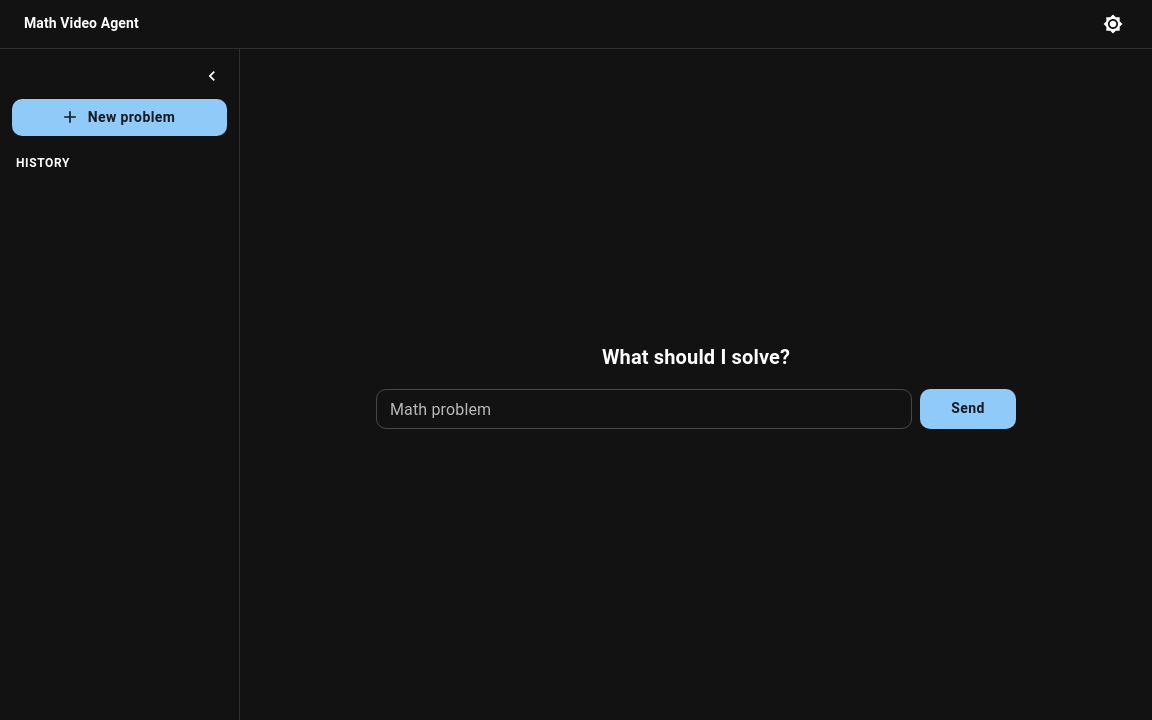
Test: AppShell › deleting the active entry returns to the empty form instead of a broken active view
Step 1. Type "Solve x^2 - 4 = 0" into the field labelled "Math problem" → x=644, y=408, box [376, 388, 912, 428]
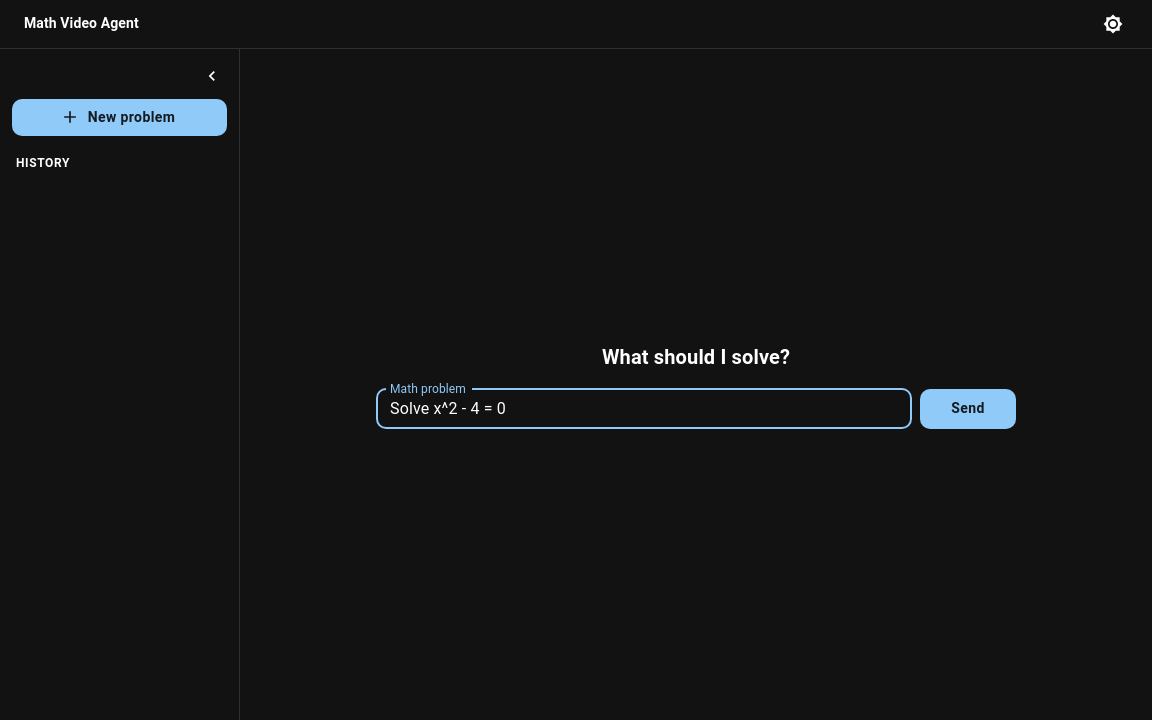
Step 2. Click the button "Send" → x=968, y=408, box [920, 388, 1016, 428]
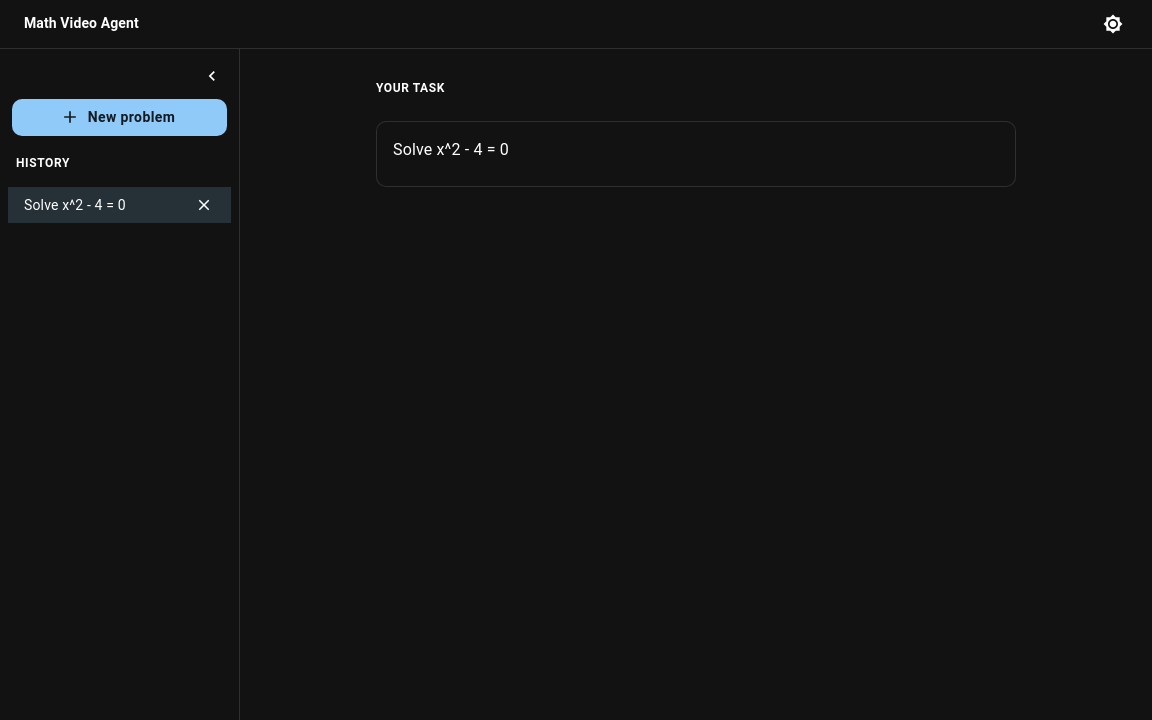
Step 3. Click the button named "delete solve x^2 - 4 = 0" → x=204, y=205, box [190, 191, 218, 219]
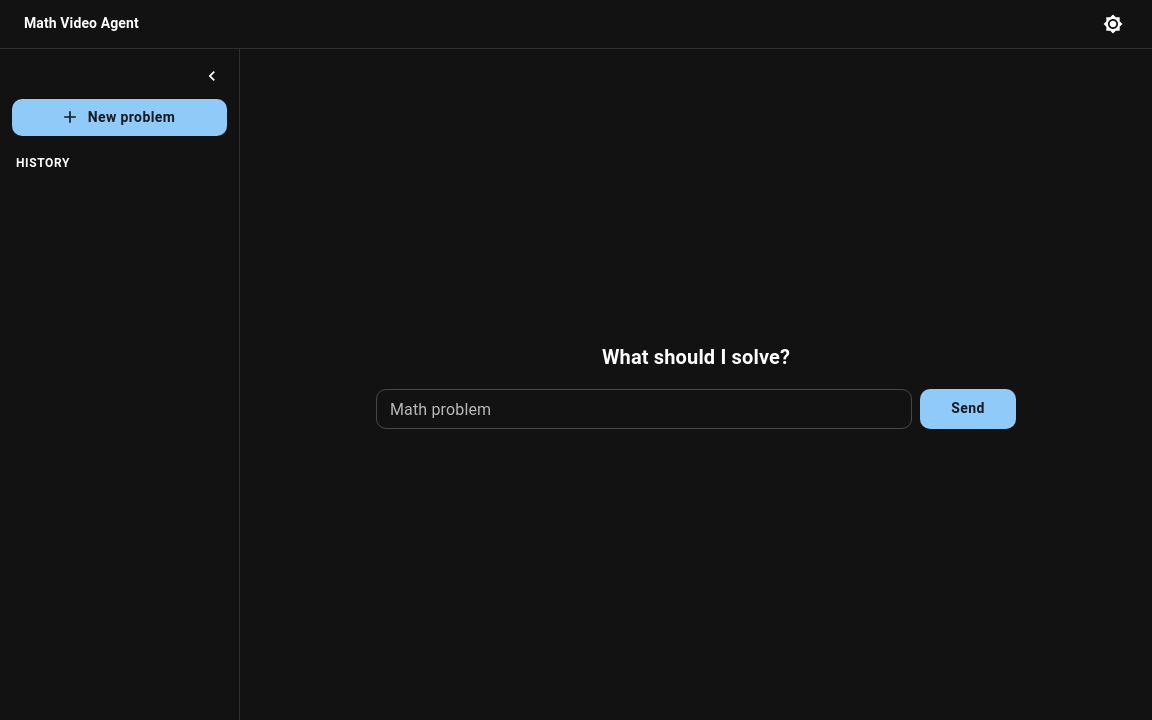
Now the field labelled "Math problem" is empty, box [376, 388, 912, 428]
Now the button with test id "history-entry-abc" is gone
